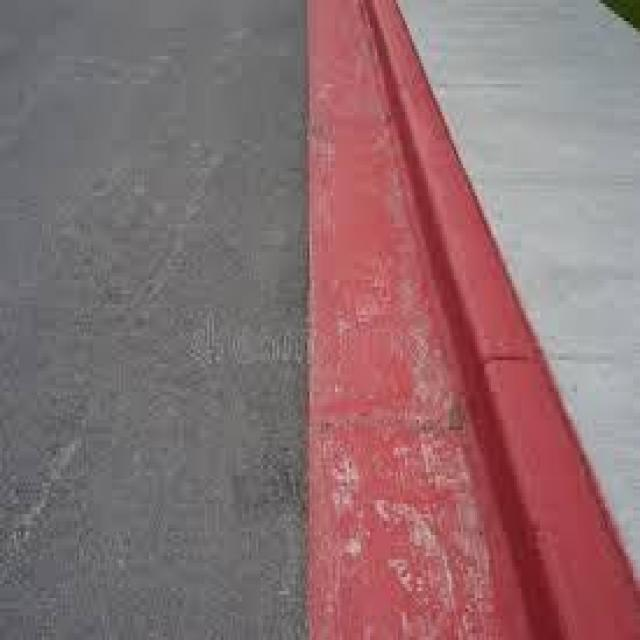curb: (307, 233, 610, 640), (290, 4, 490, 265)
